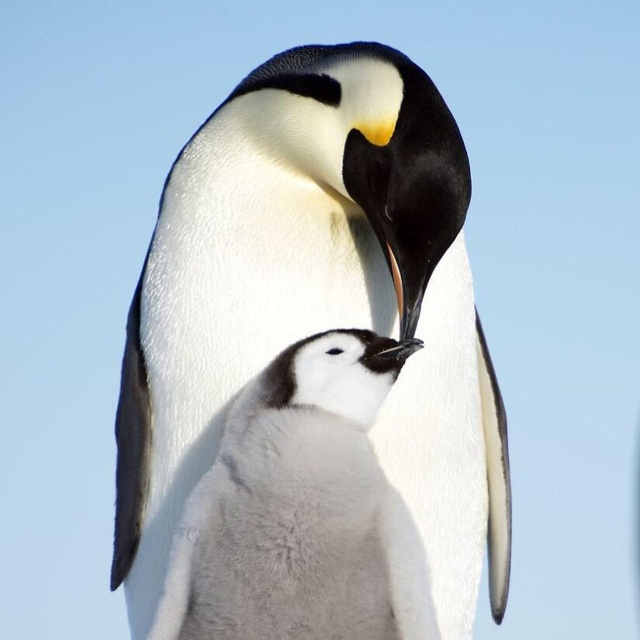Penguin: (111, 42, 510, 639), (144, 320, 438, 639)
